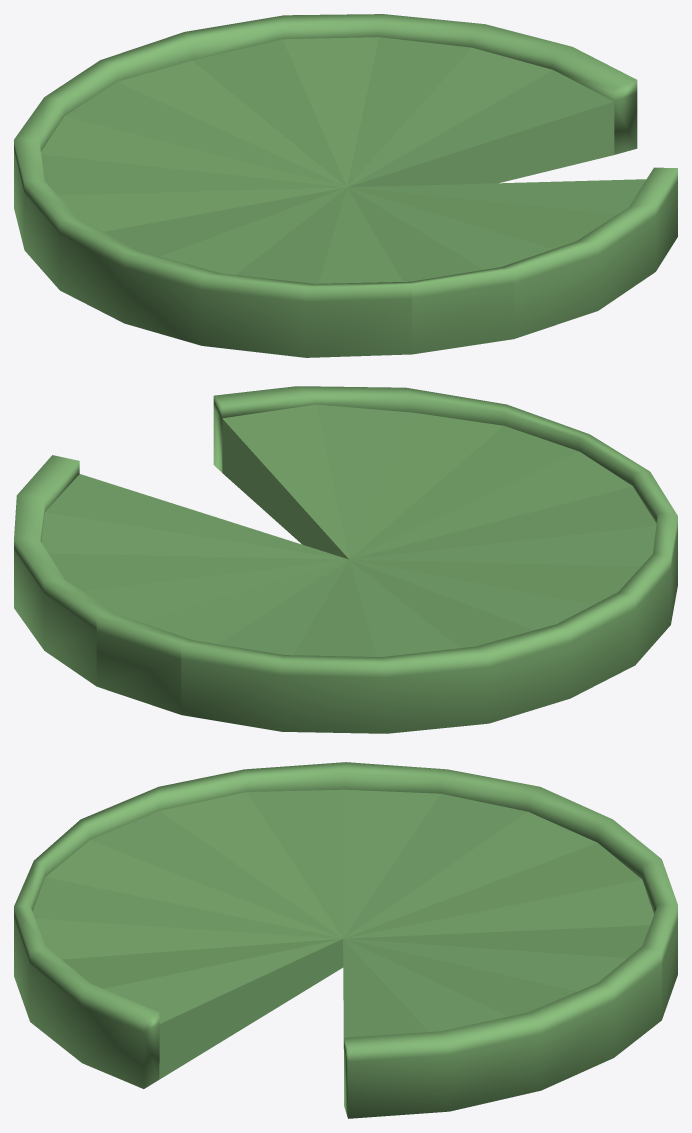
Rendered from lillypad.fbx.
The picture shows the model from 3 angles, top to bottom: view 1: azimuth 30°, elevation 25°; view 2: azimuth 150°, elevation 25°; view 3: azimuth 270°, elevation 25°; orthographic projection.
Visible parts, largest first — view 1: pCylinder1; view 2: pCylinder1; view 3: pCylinder1.
Part boxes in pixels (x1=…): pCylinder1: x1=14, y1=14, x2=677, y2=357; pCylinder1: x1=14, y1=386, x2=677, y2=733; pCylinder1: x1=14, y1=762, x2=677, y2=1118.
Bounding box in the file's own units: 8.79 × 0.9999 × 8.6.
